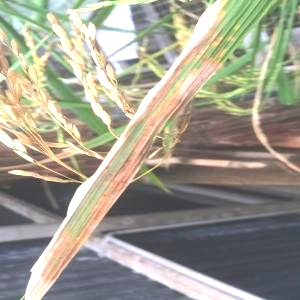Leaf_Blast: (47, 191, 96, 263)
